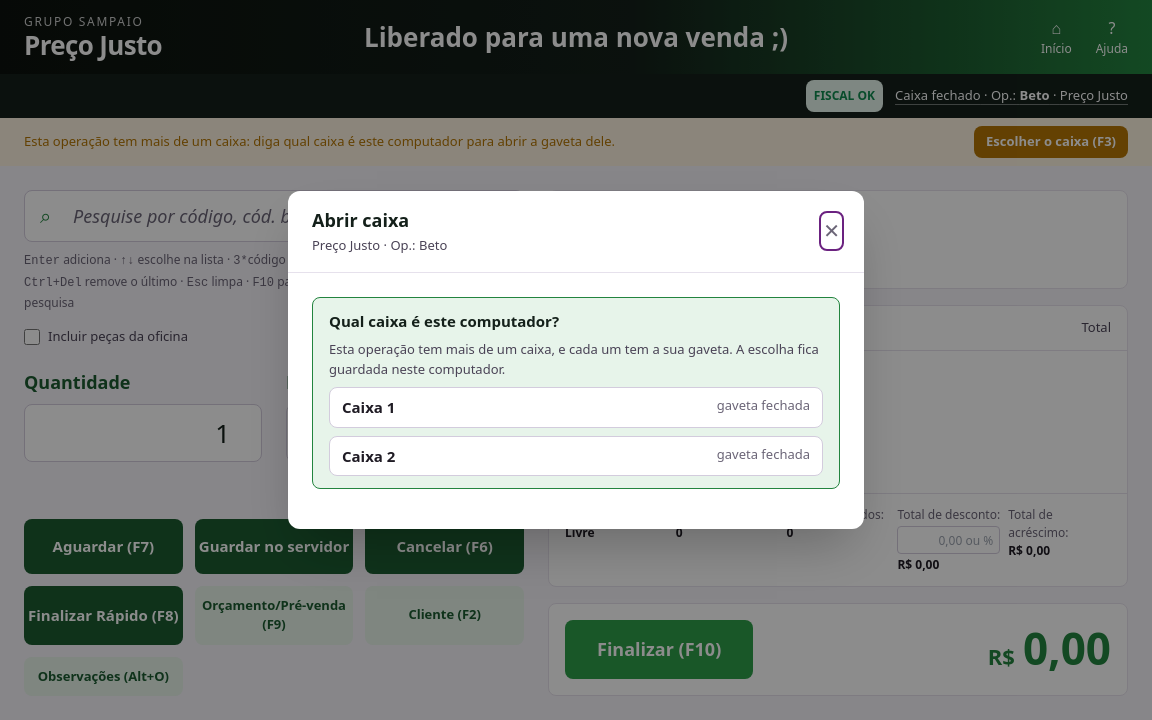
it: a operação tem mais de um caixa › sem caixa escolhido, o PDV pergunta — e a escolha vai para a consulta e para a abertura
Expected: the field labelled "Fundo de troco" is not shown
Expected: the text "diga qual caixa é este computador" is shown, [24,132,615,150]
Click the button "Caixa 2 gaveta fechada" at point(369, 456), box [329,436,823,476]
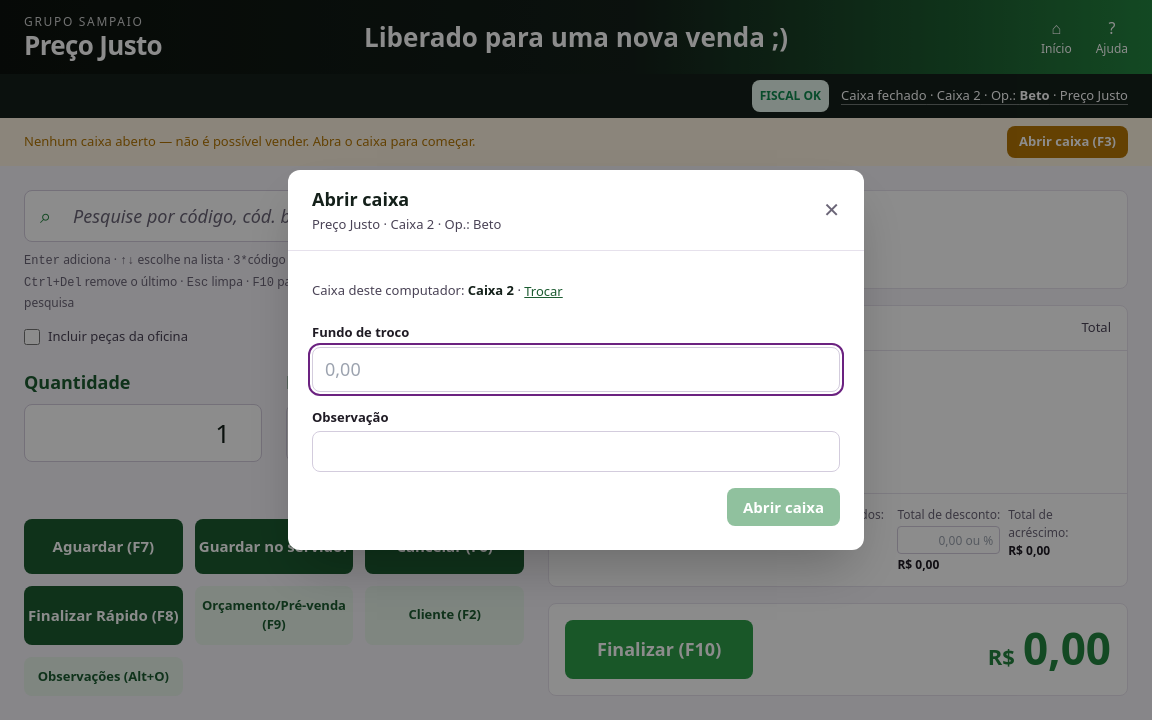
Type "100,00" into the field labelled "Fundo de troco" at point(576, 369), box [312,347,840,392]
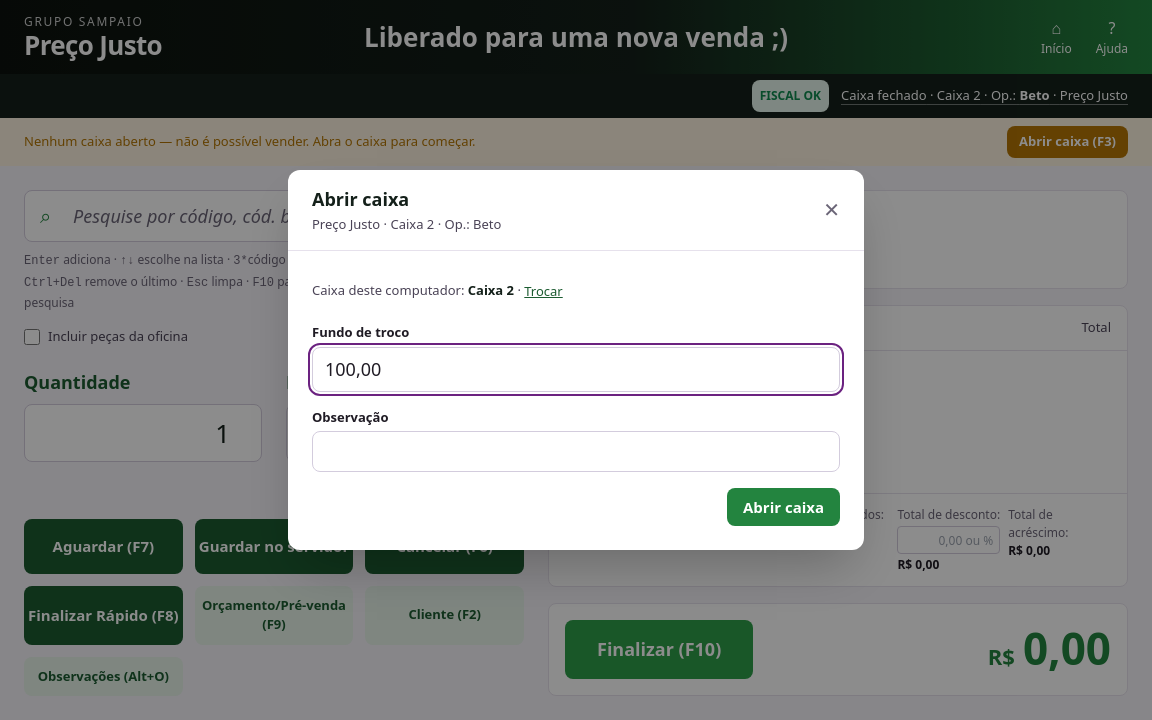
Click the button "Abrir caixa" at point(784, 507), box [727,488,840,526]
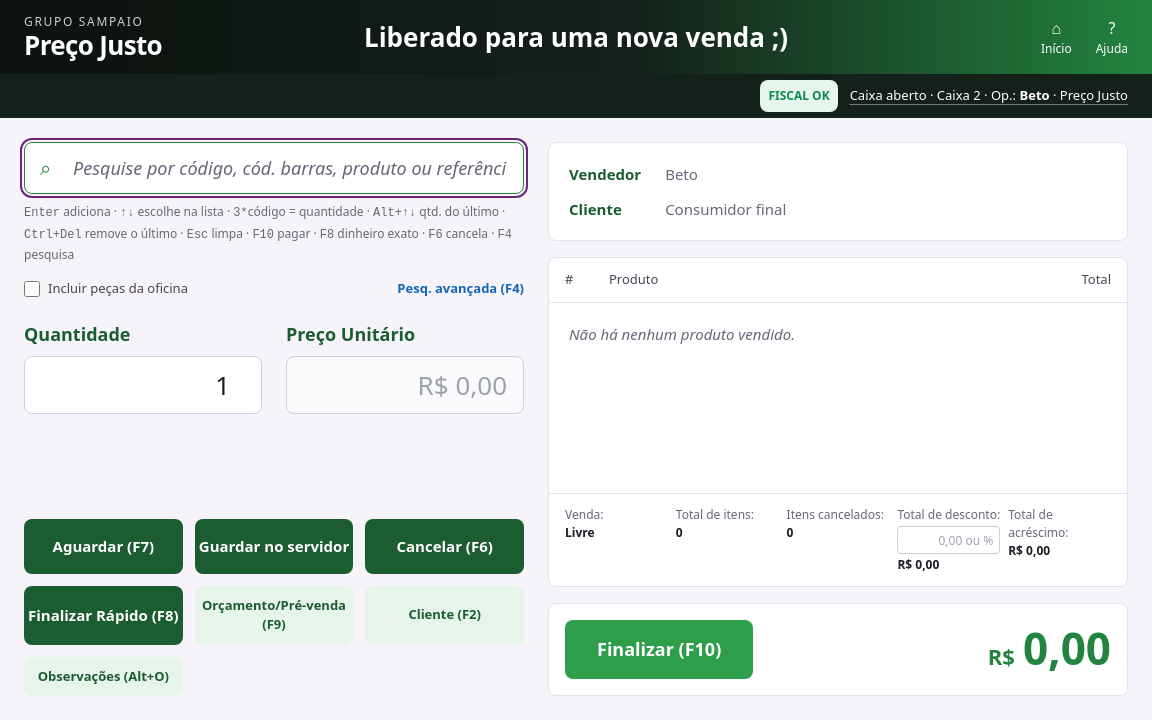
Expected: the button "Caixa aberto · Caixa 2 · Op.: Beto · Preço Justo" is shown, [850,80,1128,112]
